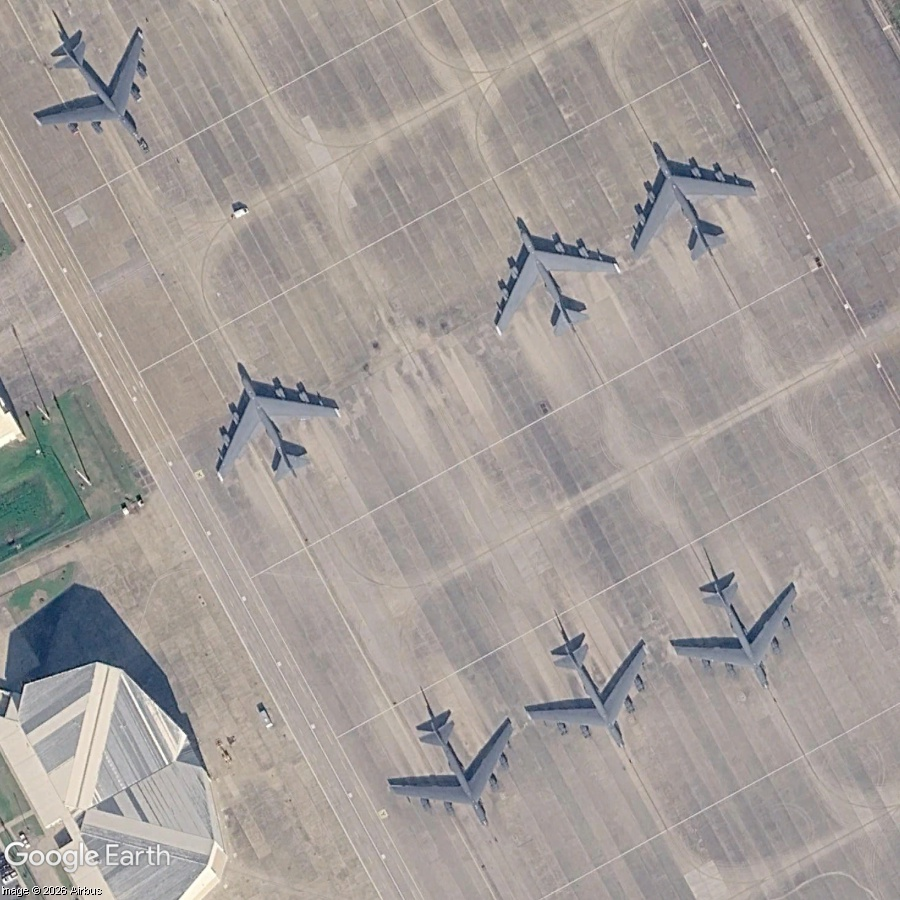Máy bay ném bom: (2, 0, 198, 188), (501, 603, 690, 787), (364, 682, 553, 863), (592, 114, 778, 293), (650, 547, 834, 725), (455, 192, 639, 367), (181, 344, 358, 510)
